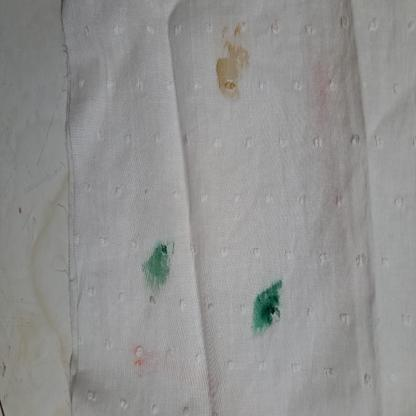spot: (211, 20, 249, 98), (139, 236, 181, 290), (249, 280, 282, 336), (130, 340, 149, 372)
